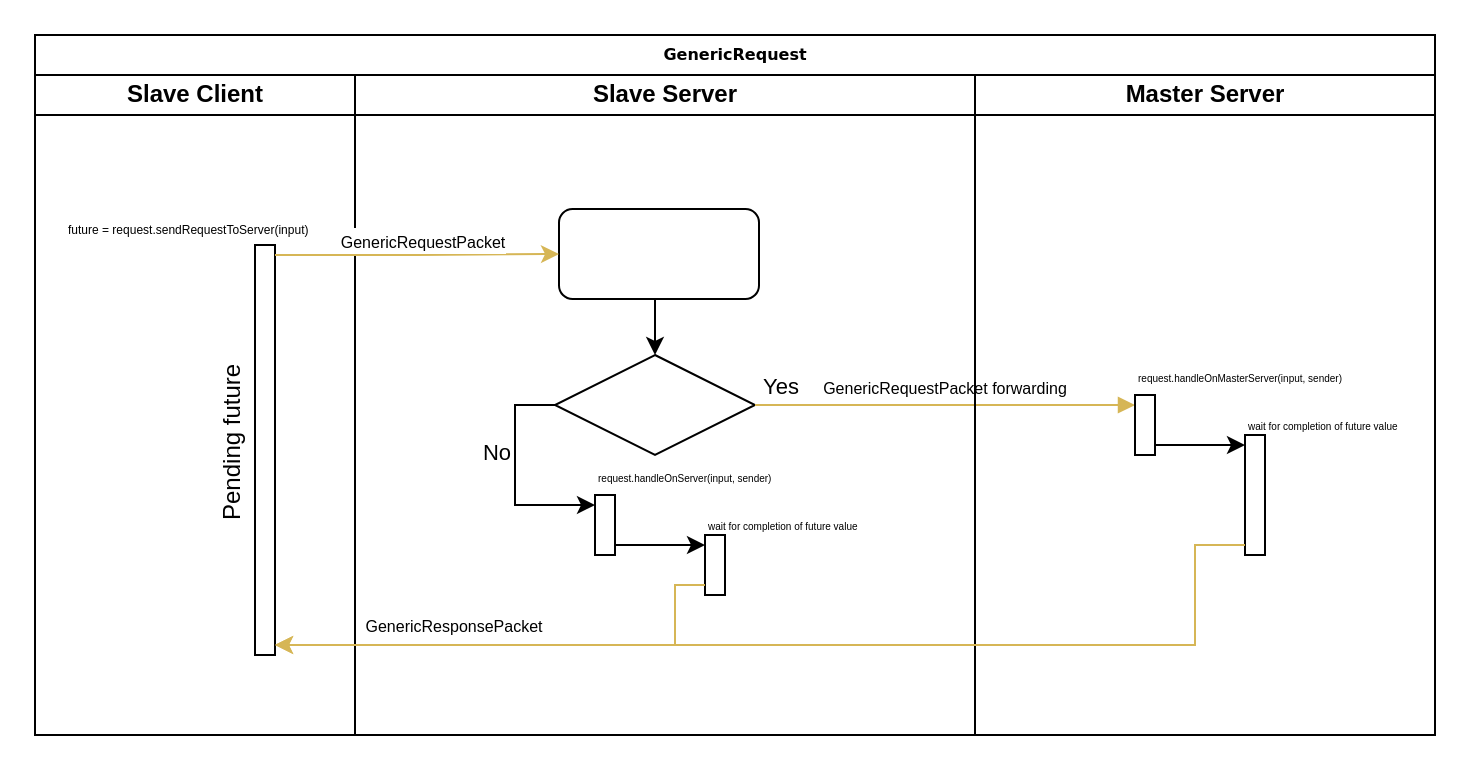
Some shapes in this 1470 by 770 pixel diagram are drawn without their labels. The shapes that lost their labels are listed below. From the top down, each one's centre as x and y in pixels, then its label:
pixel 658 253: NetworkPacketHandler. handleServer(packet, context)
pixel 654 404: packet.needsRoutingToMaster()?
